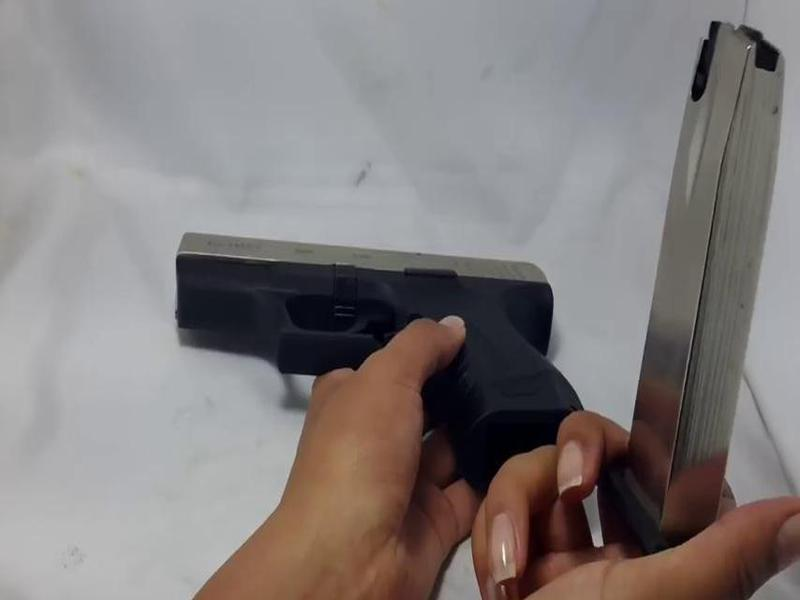Pistola: (173, 203, 652, 504)
